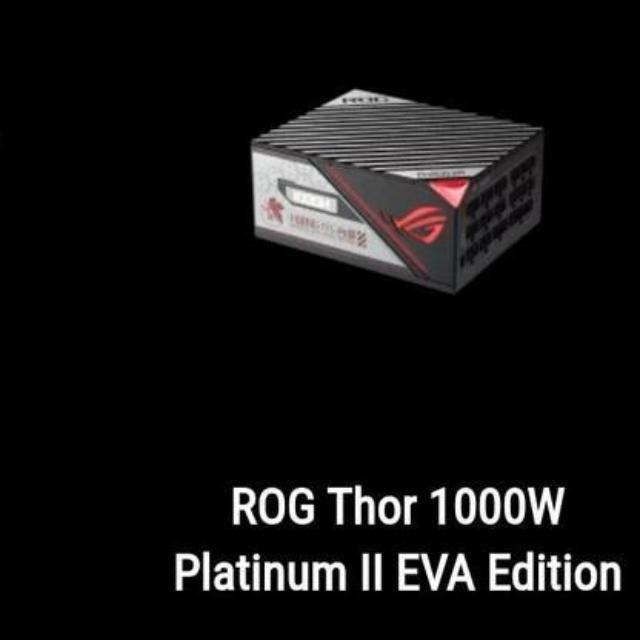PSU: (241, 73, 553, 304)
